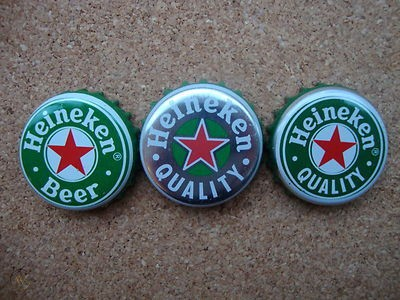heineken: (138, 82, 266, 213), (268, 81, 390, 212), (18, 89, 137, 216)
